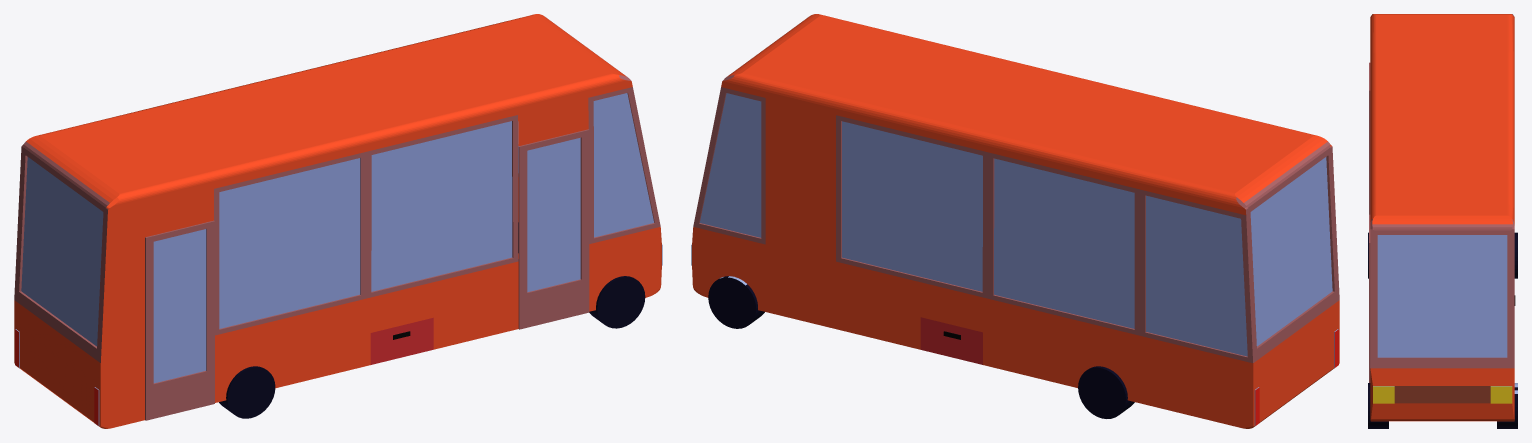
Rendered from bus.fbx.
The picture shows the model from 3 angles, left to right: view 1: azimuth 30°, elevation 25°; view 2: azimuth 150°, elevation 25°; view 3: azimuth 270°, elevation 25°; orthographic projection. The views are drawn at different scales.
Parts seen in each view (by area): view 1: Cube; view 2: Cube; view 3: Cube.
Part boxes in pixels (box(x1,y1,x2,y2)): Cube: box(14, 14, 662, 428); Cube: box(691, 14, 1339, 428); Cube: box(1368, 14, 1517, 428).
Size of the model in its own units: 753 by 321 by 208.
